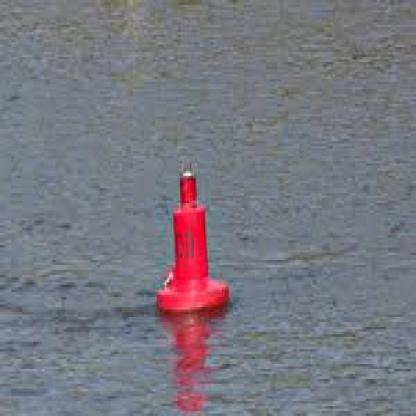buoy: (153, 148, 237, 327)
